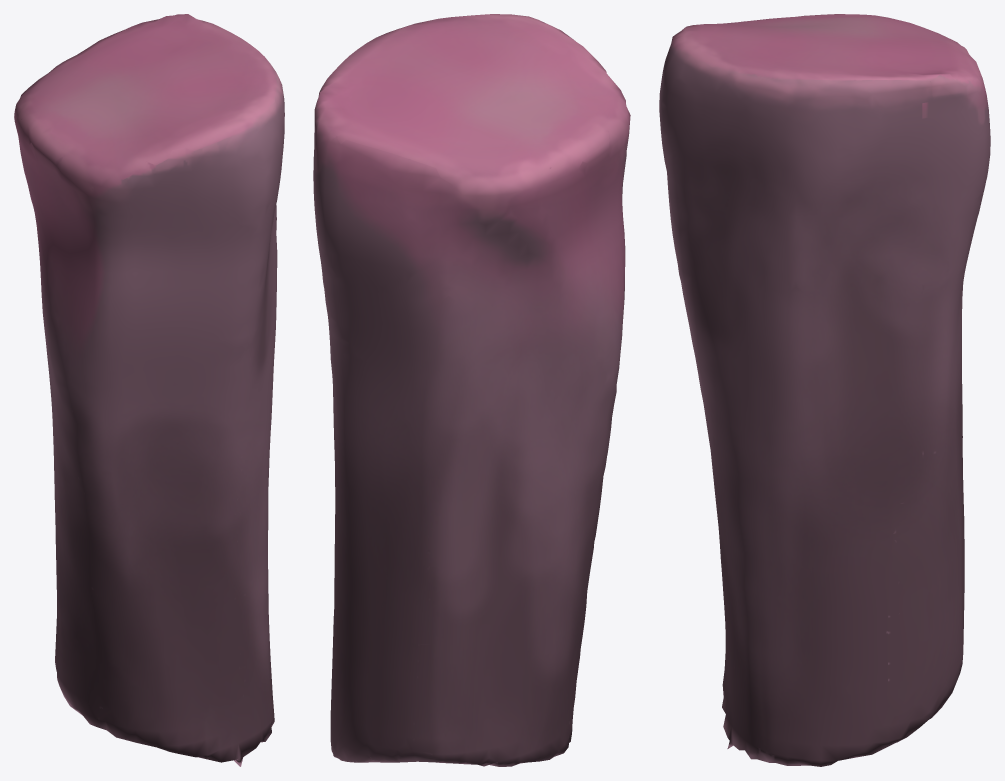
File: long_rock_1.fbx
The picture shows the model from 3 angles, left to right: view 1: azimuth 30°, elevation 25°; view 2: azimuth 150°, elevation 25°; view 3: azimuth 270°, elevation 25°; orthographic projection. The views are drawn at different scales.
Visible parts, largest first — view 1: long_rock_1; view 2: long_rock_1; view 3: long_rock_1.
Boxes of the visible parts, bbox=[...] form: long_rock_1: bbox=[14, 14, 284, 766]; long_rock_1: bbox=[313, 14, 630, 766]; long_rock_1: bbox=[659, 14, 990, 766].
Bounding box in the file's own units: 6.46 × 18.11 × 7.74.
